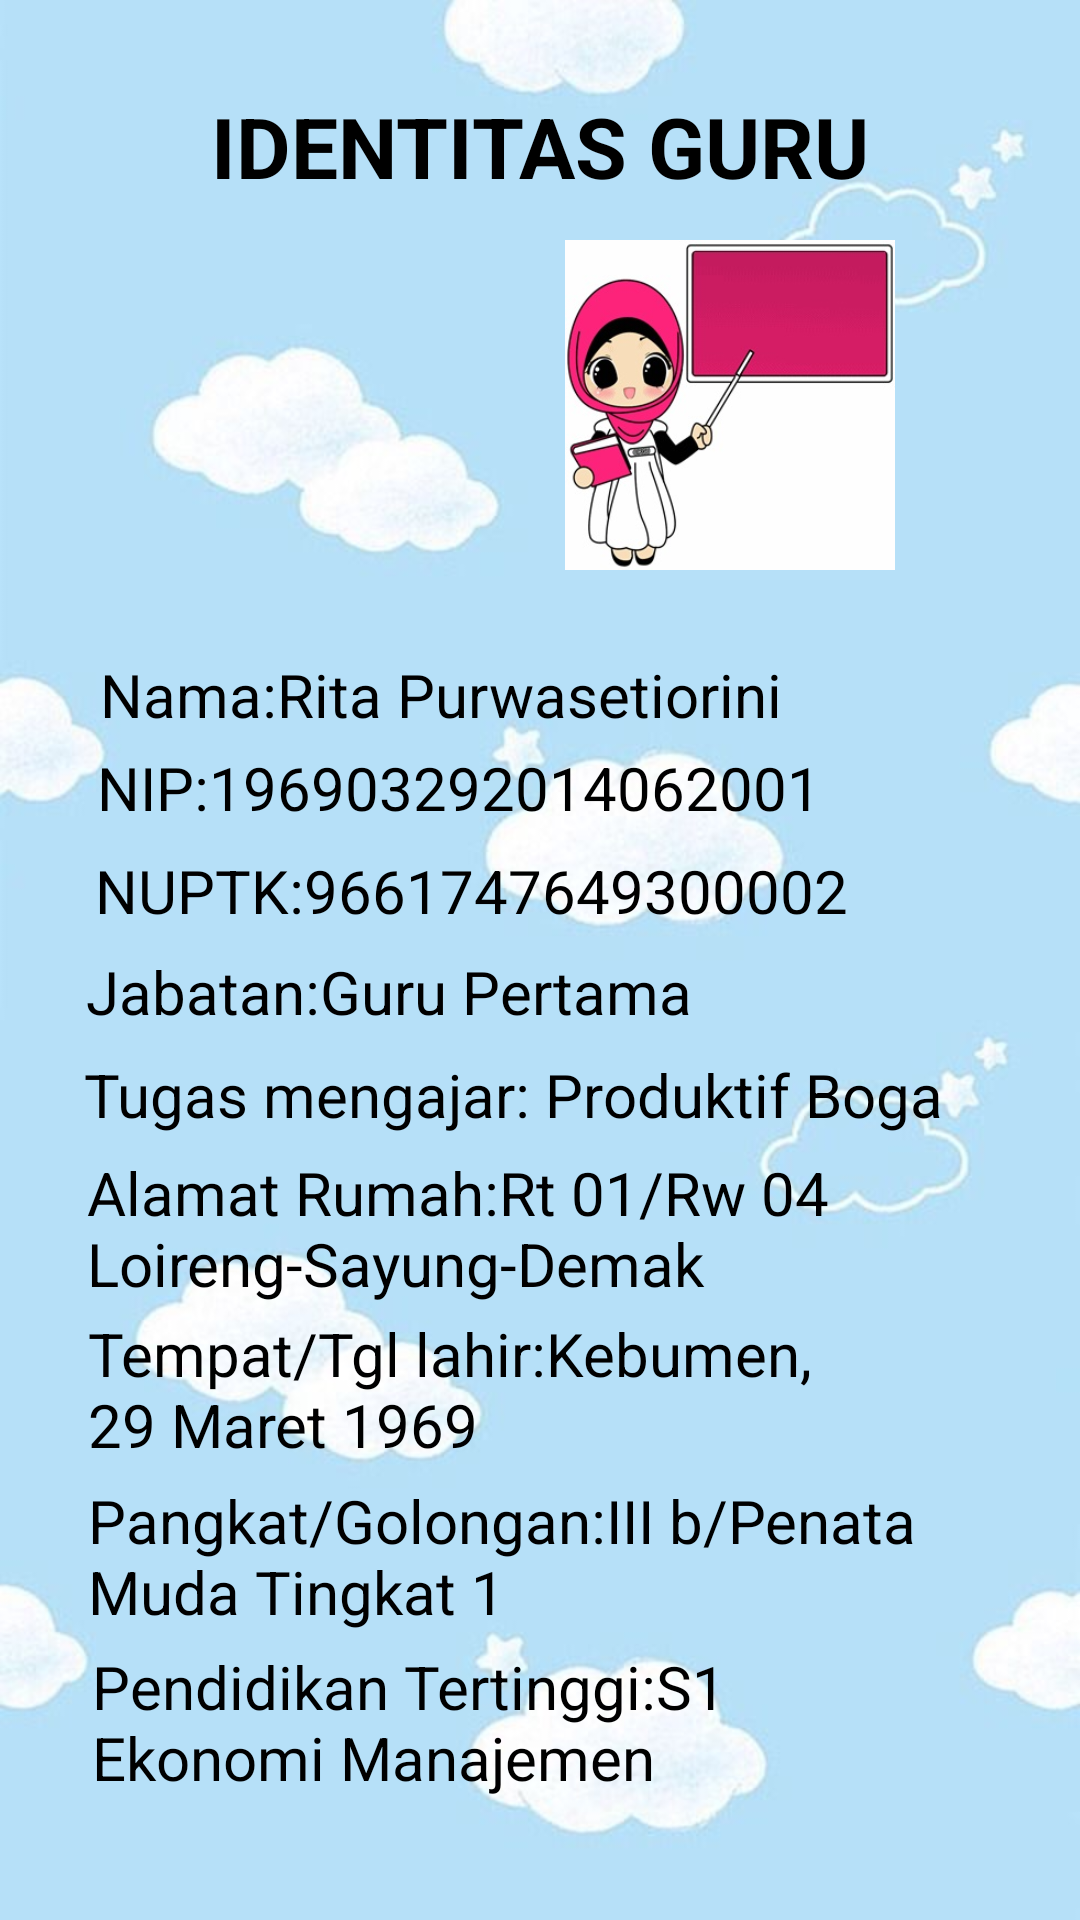

Icons on this 1080w x 1920h Android screen, each with the point to tap as point (x, y):
foto: point (745, 405)
